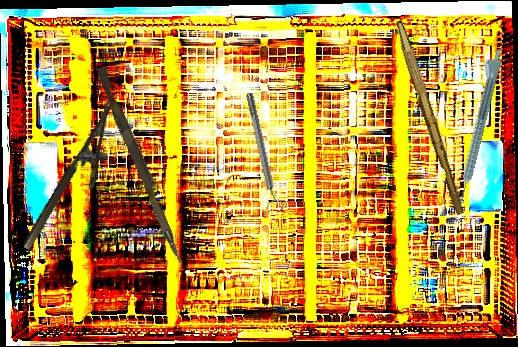Fixation Ring: (241, 90, 285, 215)
Handpiece: (449, 46, 505, 204)
Needle Holder: (19, 96, 139, 263)
Pusher: (91, 65, 191, 266)
Scalpel Handle: (389, 20, 469, 216)
